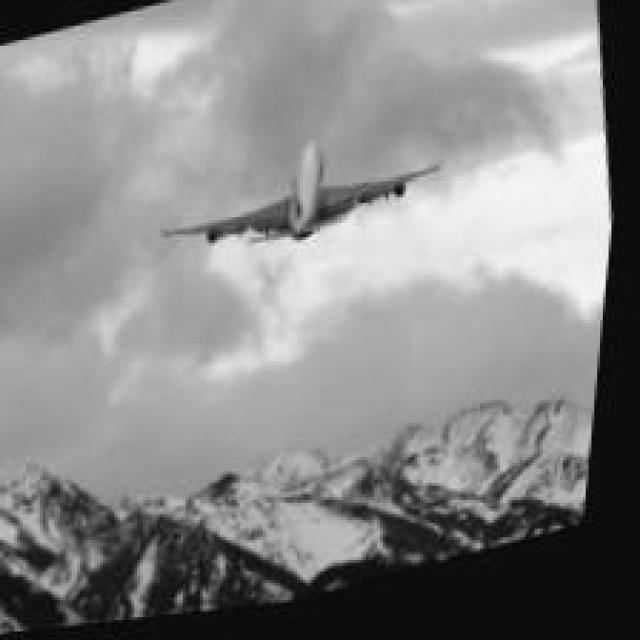aeroplane: (143, 111, 460, 286)
